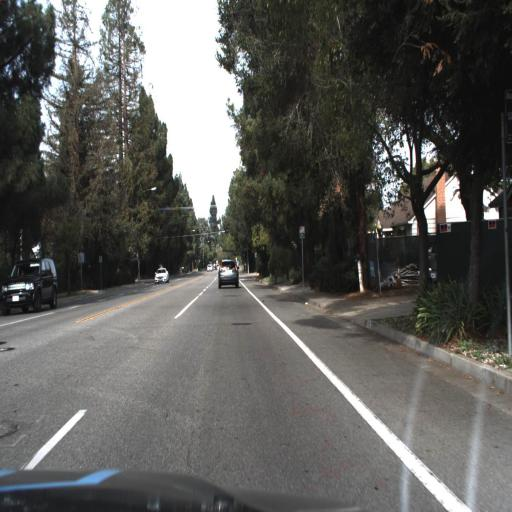car: (0, 255, 60, 316), (214, 255, 239, 295), (150, 264, 170, 289), (155, 265, 170, 286)
